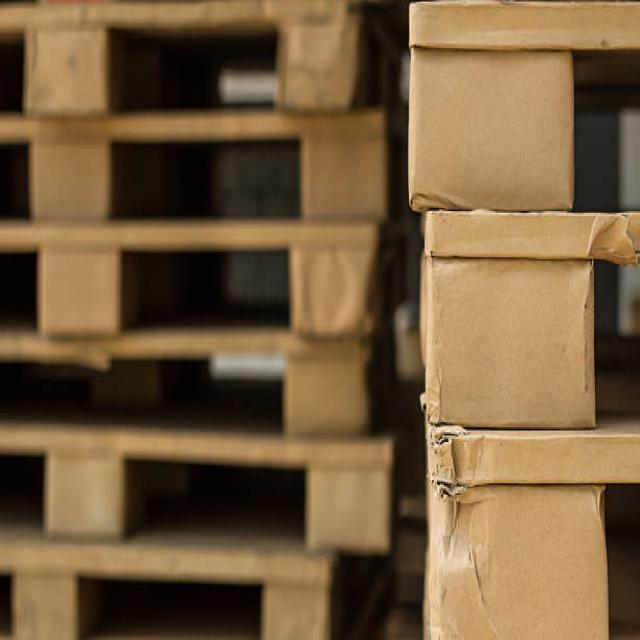Wooden-Pallets: (0, 107, 391, 226), (3, 441, 405, 555), (0, 0, 370, 114), (0, 334, 397, 440), (0, 229, 381, 333), (2, 555, 360, 639)
